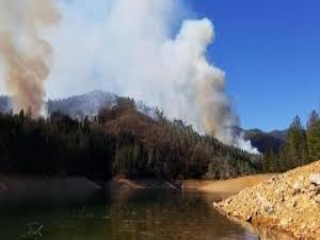smoke: (161, 20, 259, 156), (4, 4, 57, 129)
